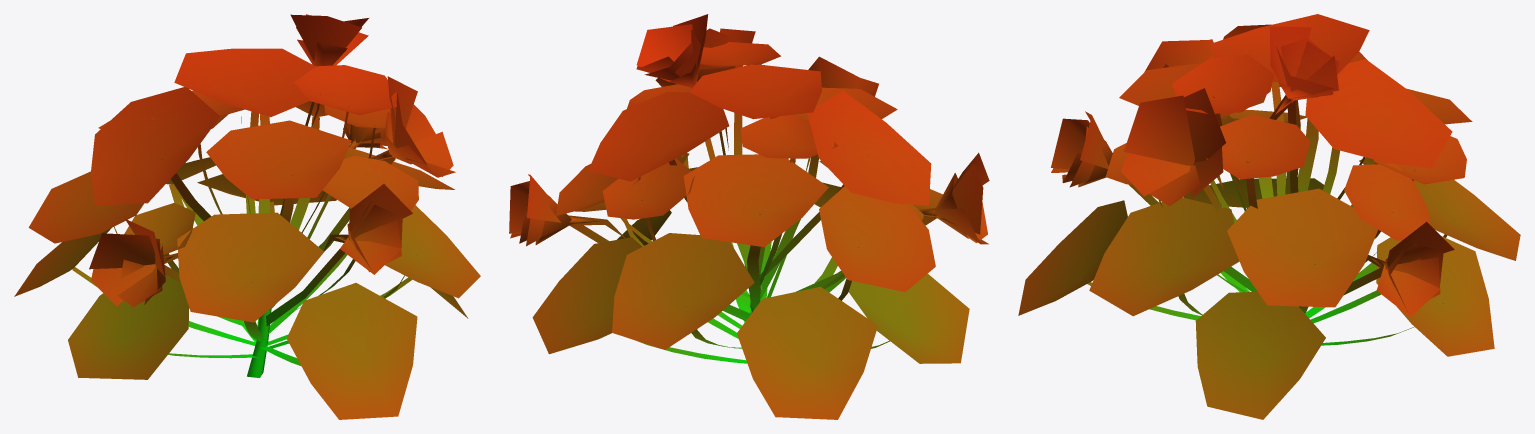
The model's file is Var2_LOD0.fbx.
The picture shows the model from 3 angles, left to right: view 1: azimuth 30°, elevation 25°; view 2: azimuth 150°, elevation 25°; view 3: azimuth 270°, elevation 25°; orthographic projection. The views are drawn at different scales.
Visible parts, largest first — view 1: _75e3_Var2_LOD0; view 2: _75e3_Var2_LOD0; view 3: _75e3_Var2_LOD0.
Boxes of the visible parts, x1,y1,x2,y2 form: _75e3_Var2_LOD0: (14,14,480,419); _75e3_Var2_LOD0: (509,14,989,419); _75e3_Var2_LOD0: (1018,14,1520,419).
Size of the model in its own units: 29.37 by 24.41 by 30.38.
